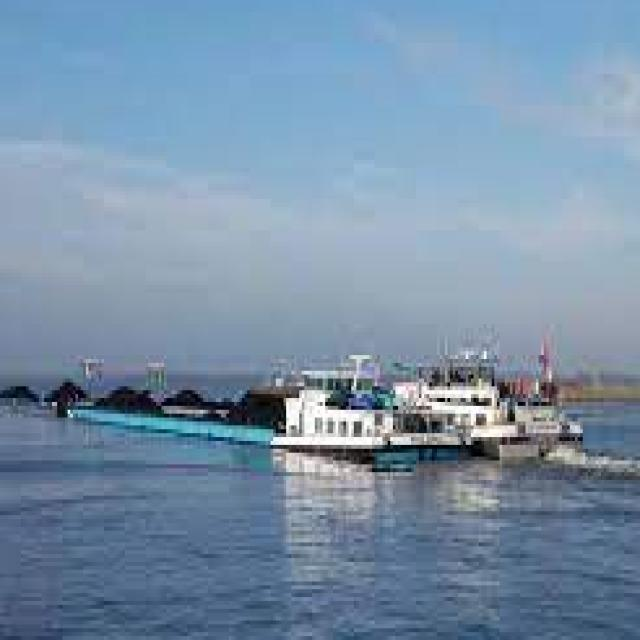fishing boat: (276, 344, 549, 492)
